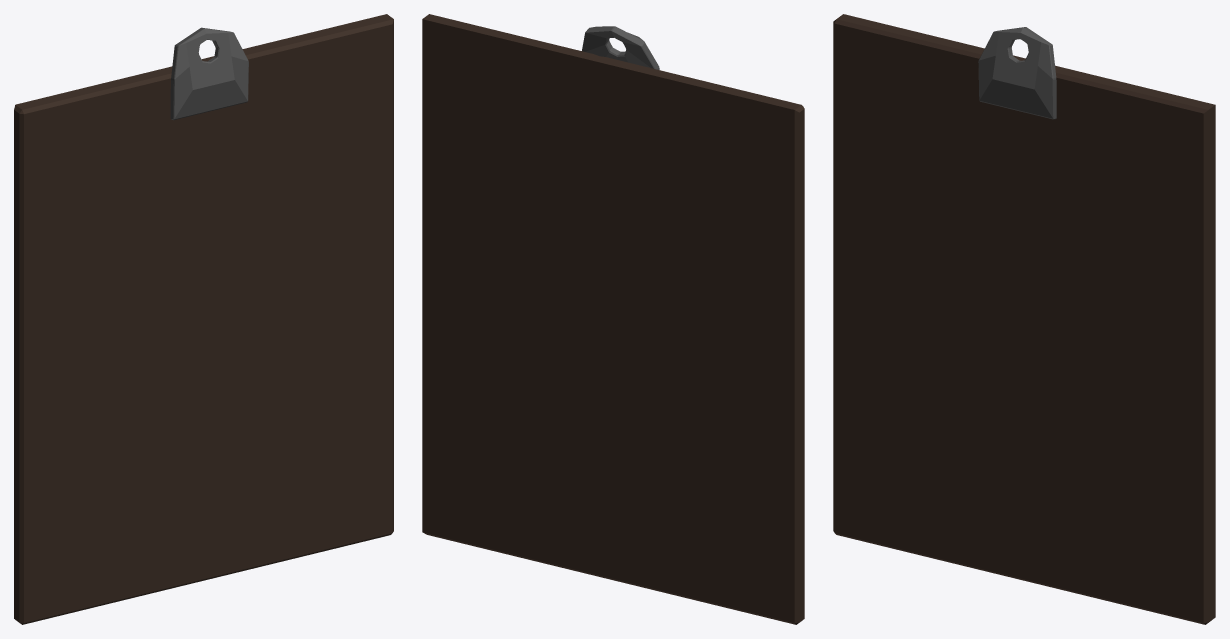
Rendered from Klemmbrett.fbx.
3 views of the same model, side by side, from view 1: azimuth 30°, elevation 25°; view 2: azimuth 150°, elevation 25°; view 3: azimuth 330°, elevation 25° (orthographic).
Parts seen in each view (by area): view 1: Klemmbrett, Metallstück_klemmbrett; view 2: Klemmbrett, Metallstück_klemmbrett; view 3: Klemmbrett, Metallstück_klemmbrett.
Part boxes in pixels (box(x1,y1,x2,y2)): Klemmbrett: box(14, 14, 393, 624); Metallstück_klemmbrett: box(170, 27, 248, 120); Klemmbrett: box(422, 14, 804, 624); Metallstück_klemmbrett: box(582, 26, 659, 69); Klemmbrett: box(833, 14, 1215, 624); Metallstück_klemmbrett: box(978, 27, 1056, 119).
Bounding box in the file's own units: 24.97 × 35.03 × 1.65.
